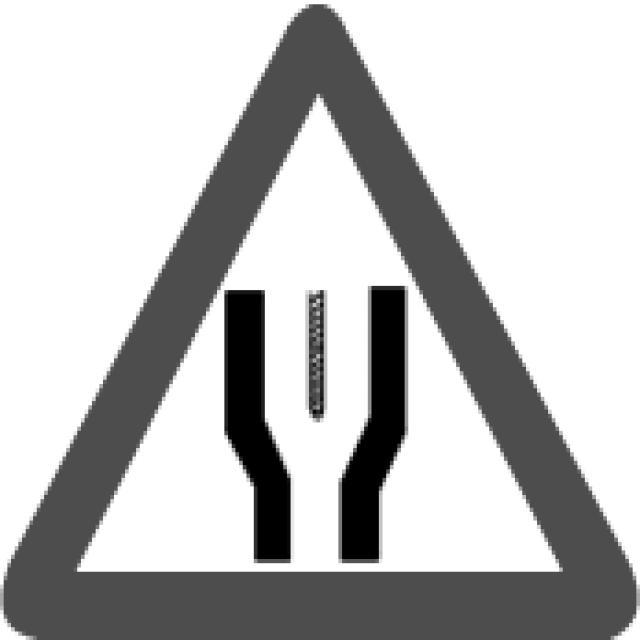road widens ahead: (19, 26, 619, 620)
